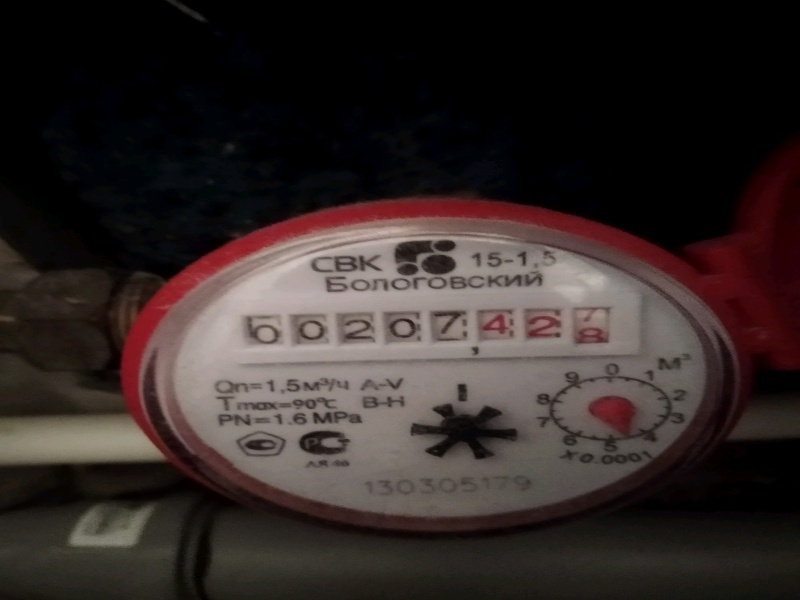meter: (236, 308, 632, 355)
